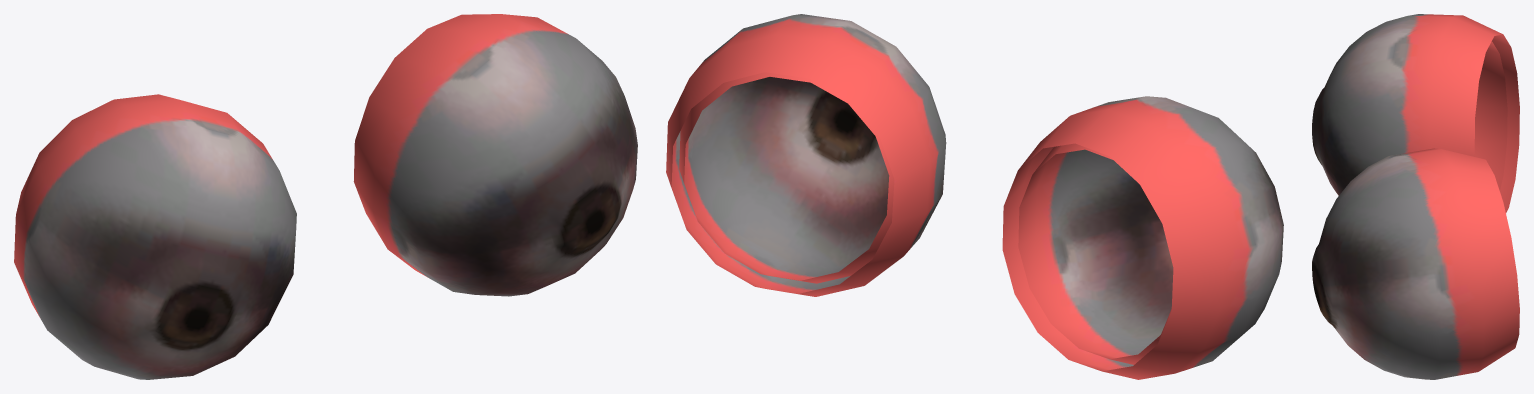
File: NPC_Hero_Nasty_eye.fbx
3 renders of one model, left to right at view 1: azimuth 30°, elevation 25°; view 2: azimuth 150°, elevation 25°; view 3: azimuth 270°, elevation 25°, orthographic. The views are drawn at different scales.
Visible parts, largest first — view 1: Eye.002; view 2: Eye.002; view 3: Eye.002.
Boxes of the visible parts, x1,y1,x2,y2 form: Eye.002: (14, 14, 637, 379); Eye.002: (666, 14, 1283, 379); Eye.002: (1312, 14, 1519, 379).
Bounding box in the file's own units: 13.15 × 5.49 × 4.95.
Materials: 1 (1 with a texture image).
